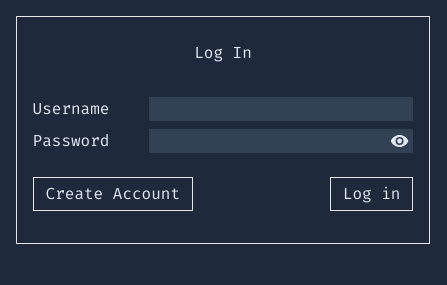
it: Login › On form submission › renders an error message if the fetch promise is rejected
// Set up form fill
Type "james" into the field named "username-input" at (281, 109), box x1=149 y1=97 x2=413 y2=121
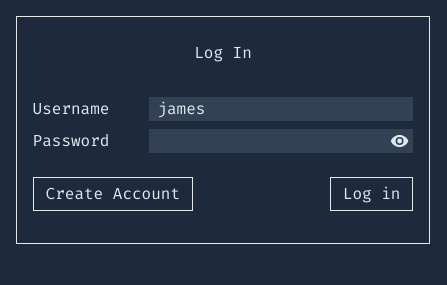
Type "123456" into the password field named "password-input" at (281, 141), box x1=149 y1=129 x2=413 y2=153
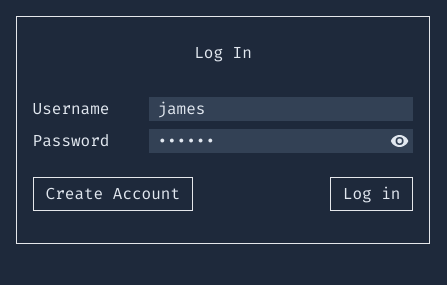
// Submit the form
Click the button "Log in" at (372, 194), box x1=330 y1=177 x2=413 y2=211
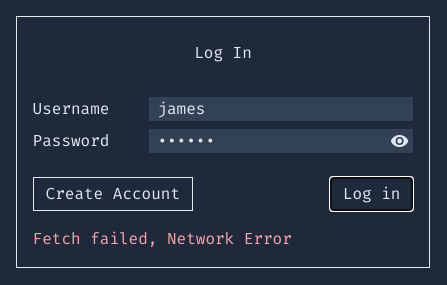
Now the text "Fetch failed, Network Error" is shown, box x1=33 y1=228 x2=292 y2=249
